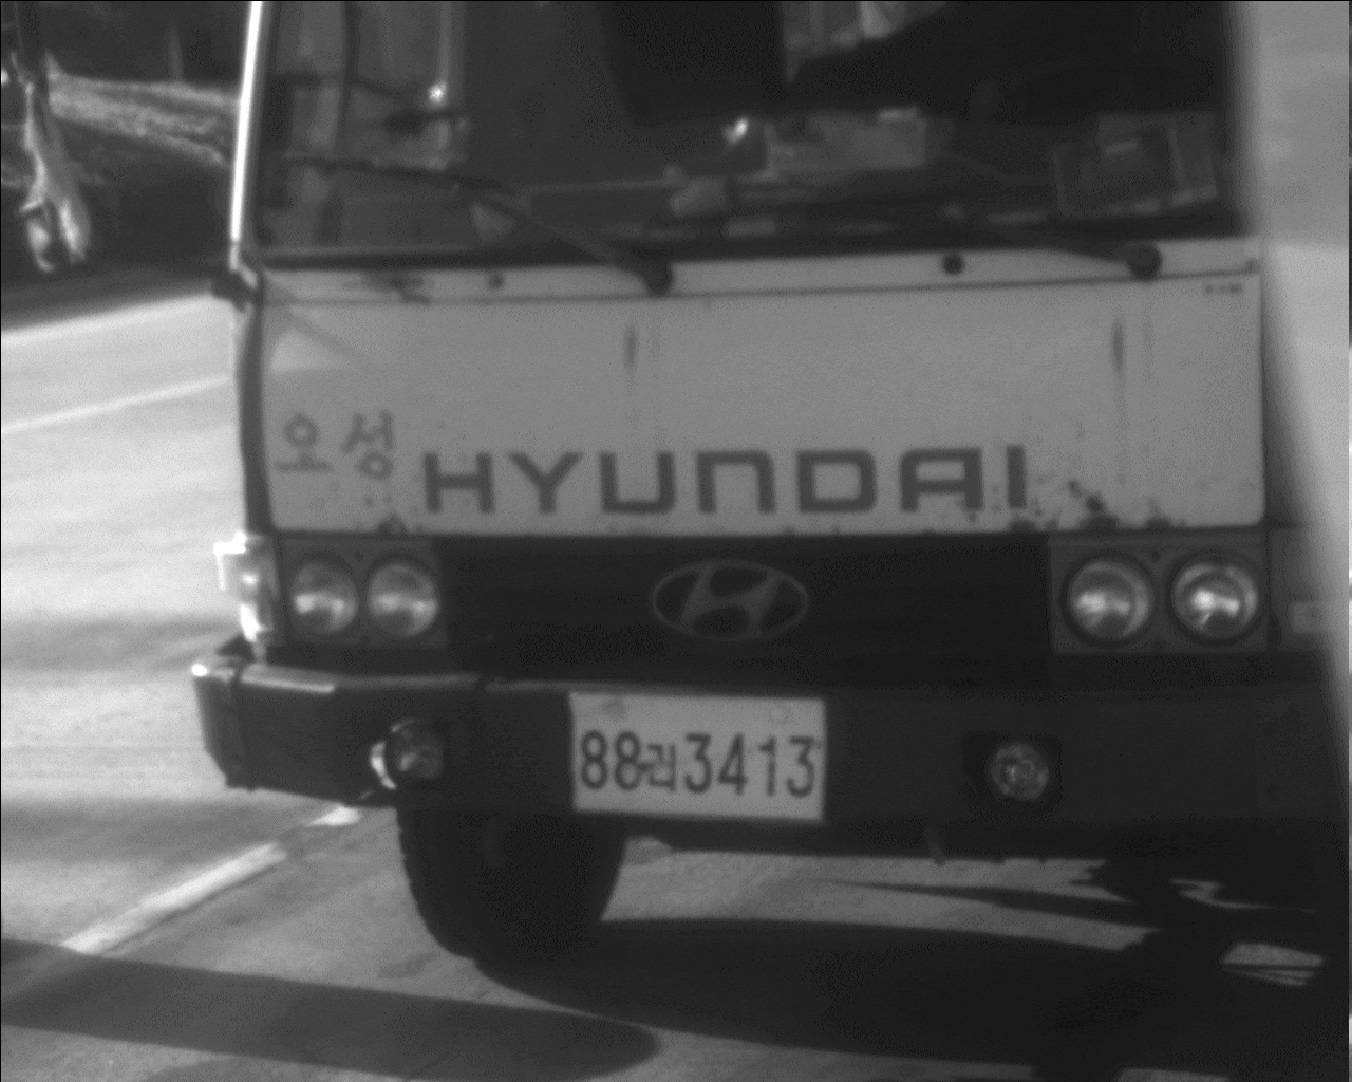car: (178, 1, 1352, 965)
plate: (559, 682, 830, 827)
